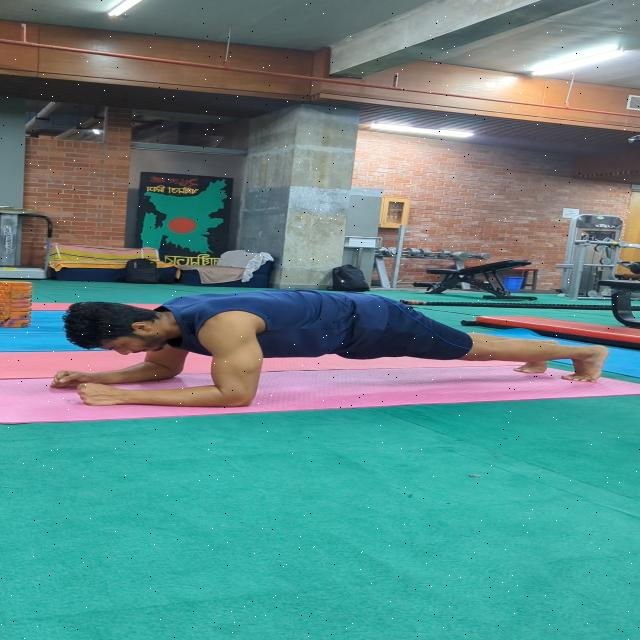Normal_Plunk: (40, 262, 622, 430)
